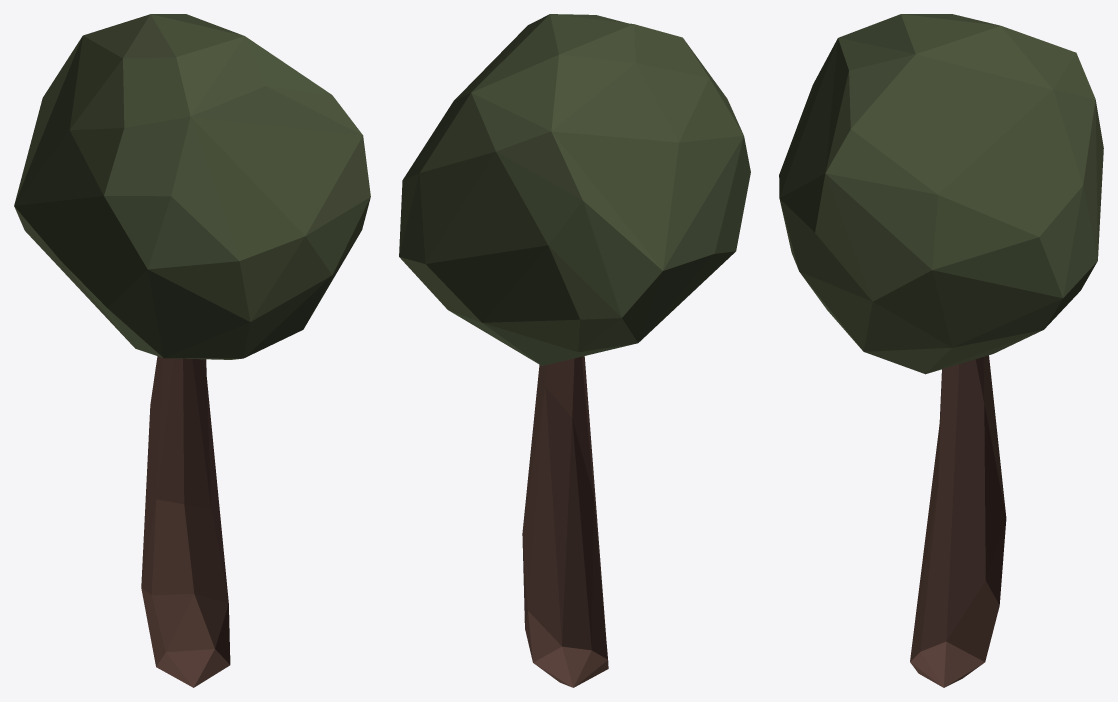
Rendered from Arbol1.fbx.
The picture shows the model from 3 angles, left to right: view 1: azimuth 30°, elevation 25°; view 2: azimuth 150°, elevation 25°; view 3: azimuth 270°, elevation 25°; orthographic projection.
Parts seen in each view (by area): view 1: Hojas.002, Tronco.001; view 2: Hojas.002, Tronco.001; view 3: Hojas.002, Tronco.001.
Part boxes in pixels (x1,y1,x2,y2): Hojas.002: (14, 14, 370, 359); Tronco.001: (141, 356, 230, 687); Hojas.002: (399, 14, 750, 365); Tronco.001: (522, 356, 608, 687); Hojas.002: (779, 14, 1103, 374); Tronco.001: (910, 355, 1006, 687).
Bounding box in the file's own units: 232 × 520 × 234.
